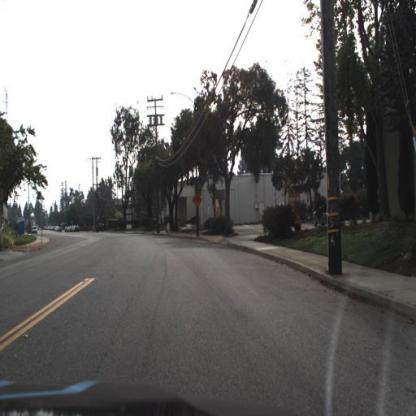car: (314, 205, 340, 230)
